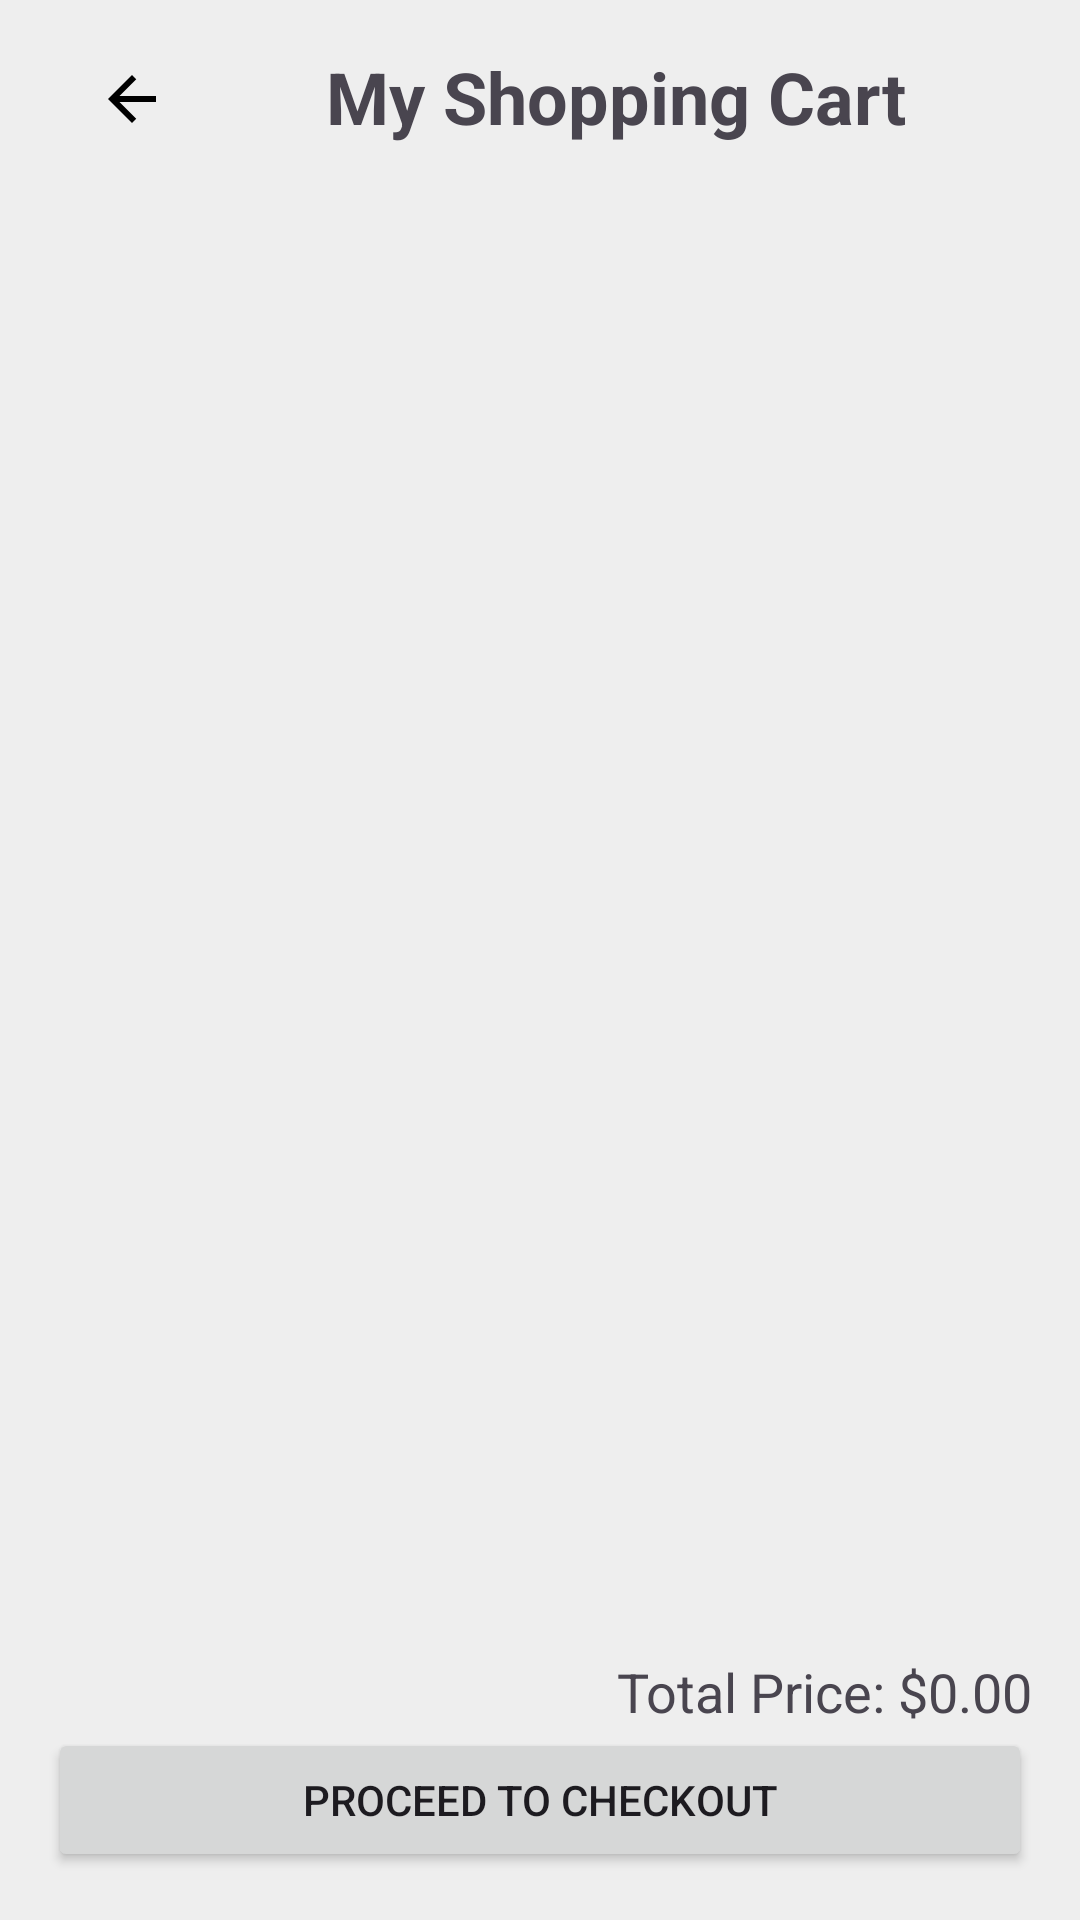

Named icons in this screenshot (1080x1920) and their centers, (x=x, y=y):
Back Button: (x=132, y=99)
